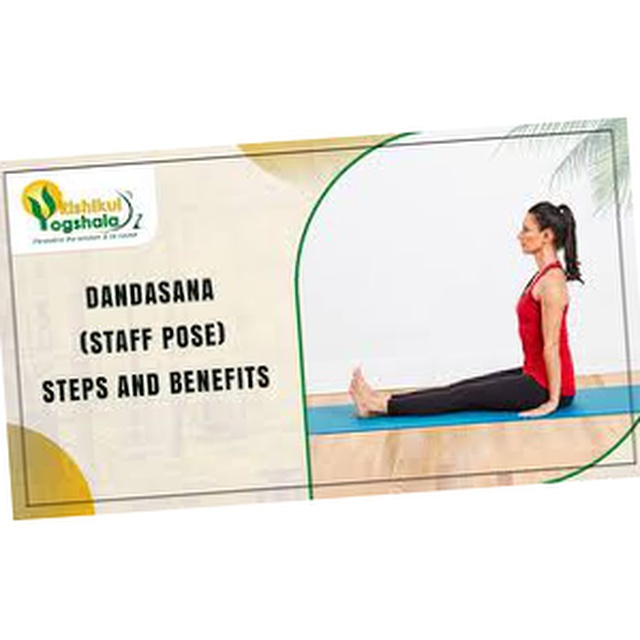Staff_Pose: (348, 200, 587, 421)
